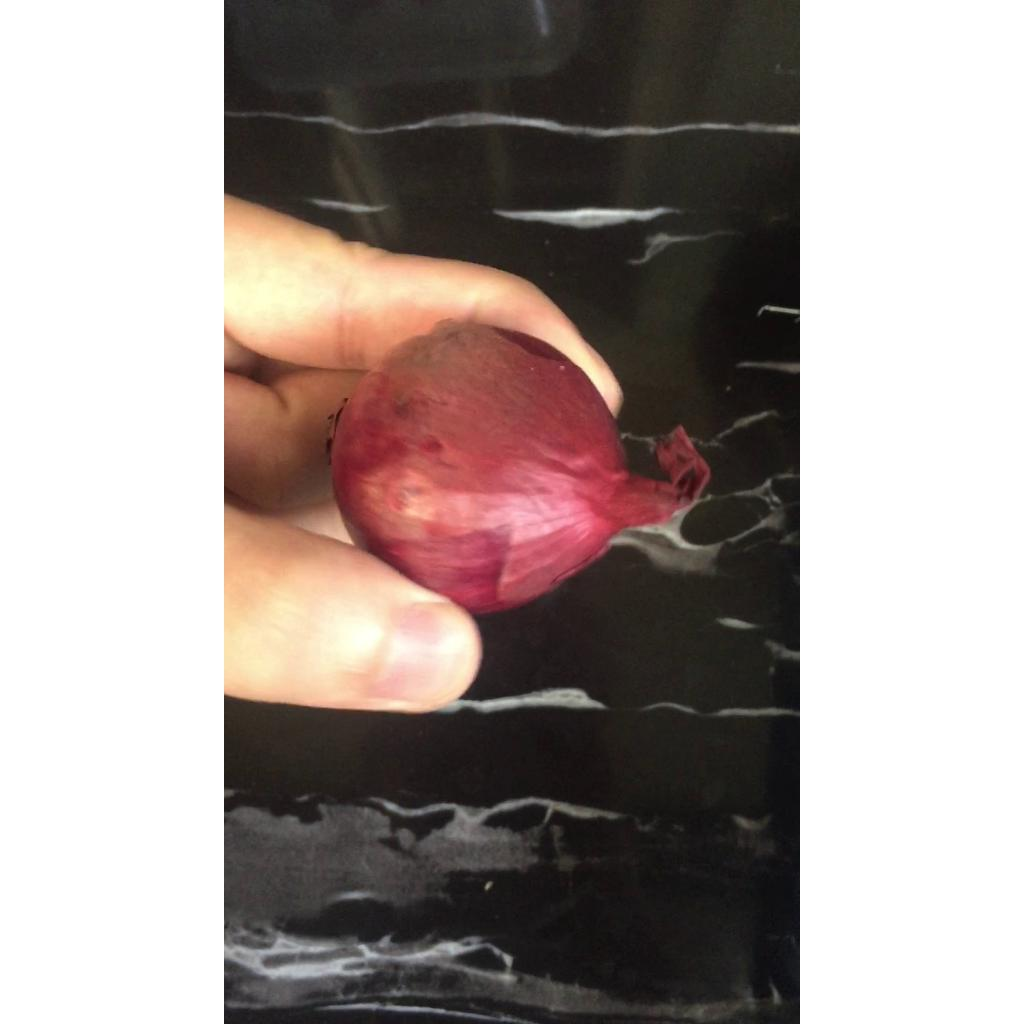Onion: (330, 322, 689, 613)
